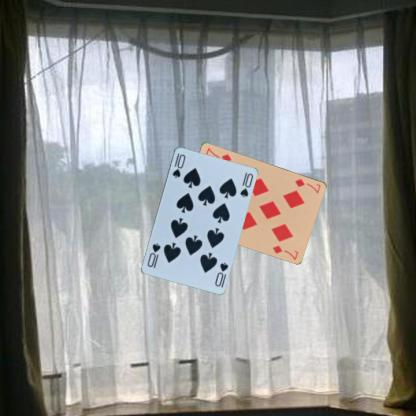10s: (212, 259, 229, 288), (170, 150, 186, 179)
7d: (292, 176, 322, 194)
